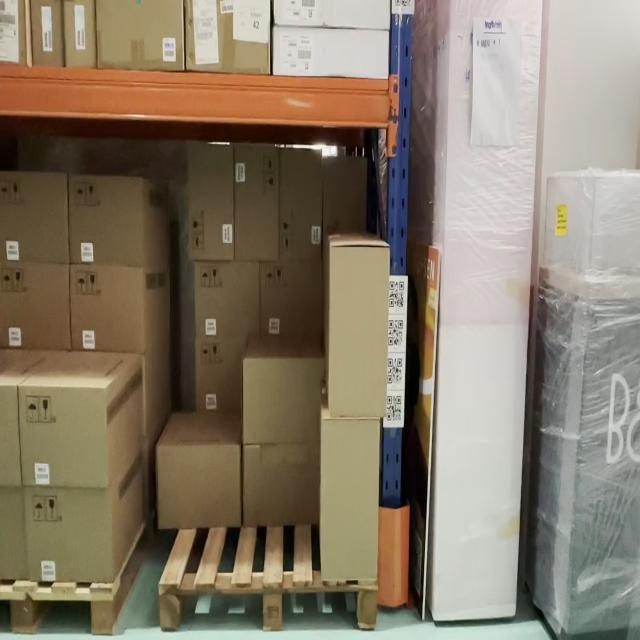box: (330, 246, 387, 416), (323, 416, 380, 580), (21, 384, 105, 487), (23, 491, 112, 578), (160, 446, 242, 529), (70, 177, 146, 260), (245, 440, 320, 523), (70, 270, 146, 347), (247, 360, 321, 436), (237, 147, 282, 268), (283, 147, 325, 270), (190, 146, 234, 262), (195, 268, 259, 332)
